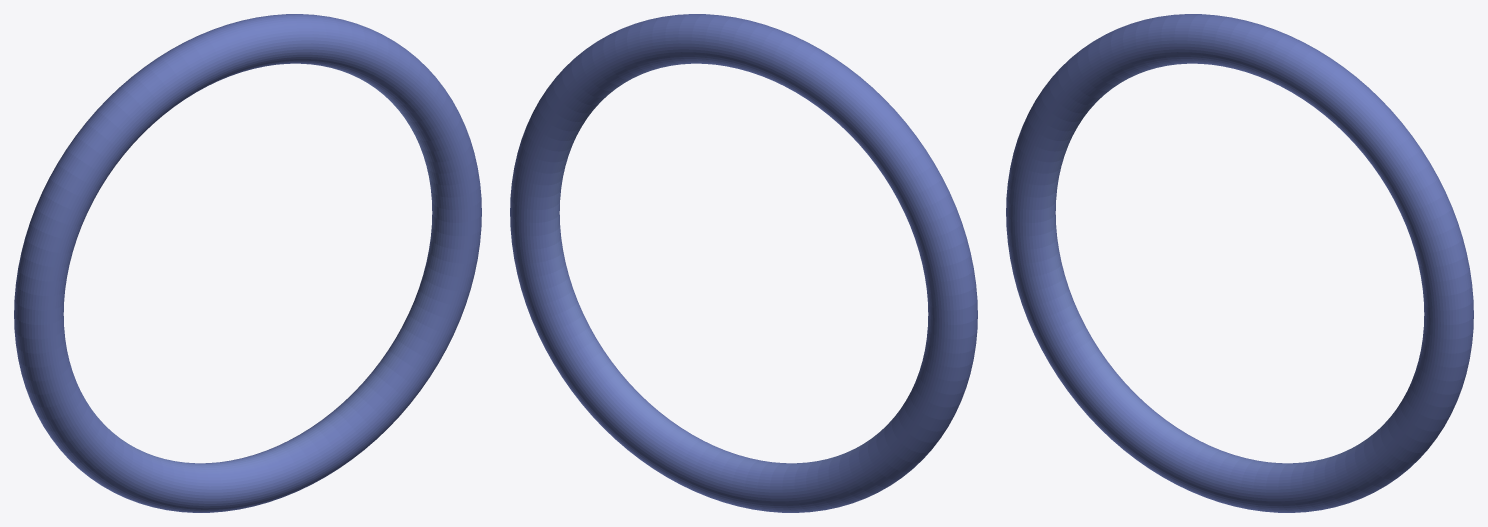
The picture shows the model from 3 angles, left to right: view 1: azimuth 30°, elevation 25°; view 2: azimuth 150°, elevation 25°; view 3: azimuth 330°, elevation 25°; orthographic projection.
Parts seen in each view (by area): view 1: world; view 2: world; view 3: world.
Part boxes in pixels (left/top/right/bottom): world: left=14, top=14, right=481, bottom=512; world: left=510, top=14, right=977, bottom=512; world: left=1006, top=14, right=1473, bottom=512.
Size of the model in its own units: 24.27 by 24.27 by 2.26.
